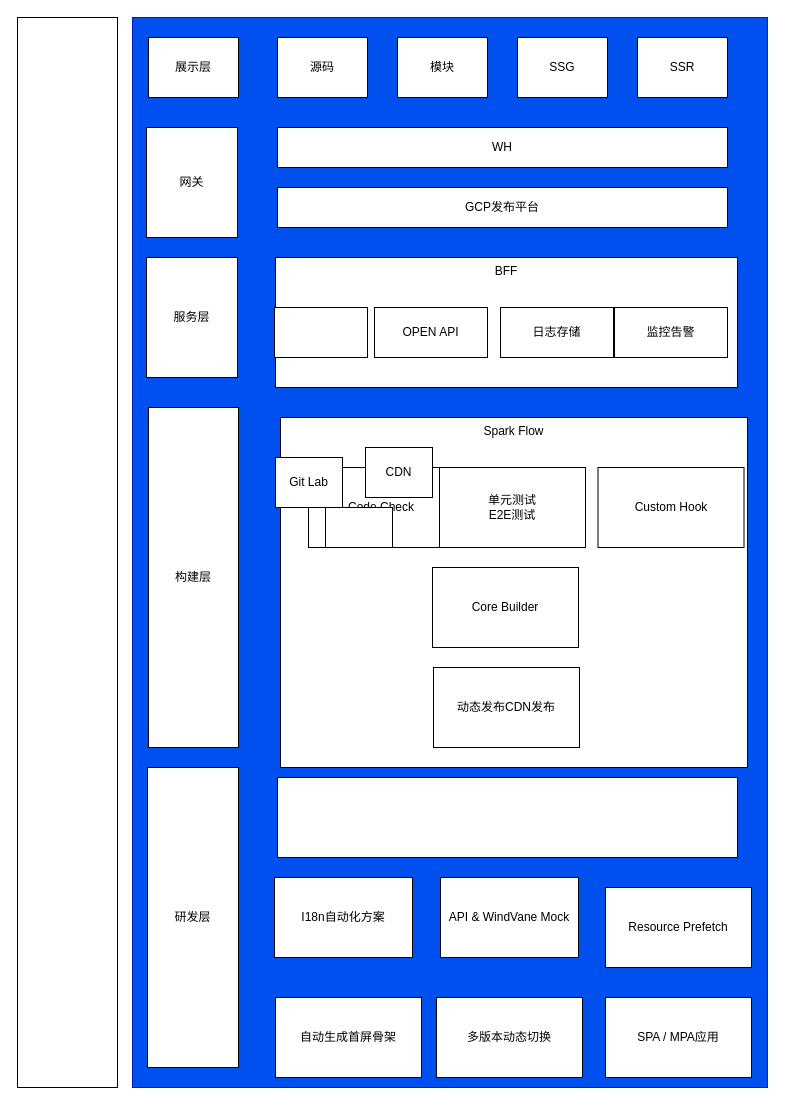
Some shapes in this 785 by 1105 pixel diagram are drawn without their labels. Each missing label, with the centre of its shape:
FormSchema 解决方案: pixel 507 817
OSS: pixel 321 332
星火研发体系: pixel 67 552
门神: pixel 358 527
